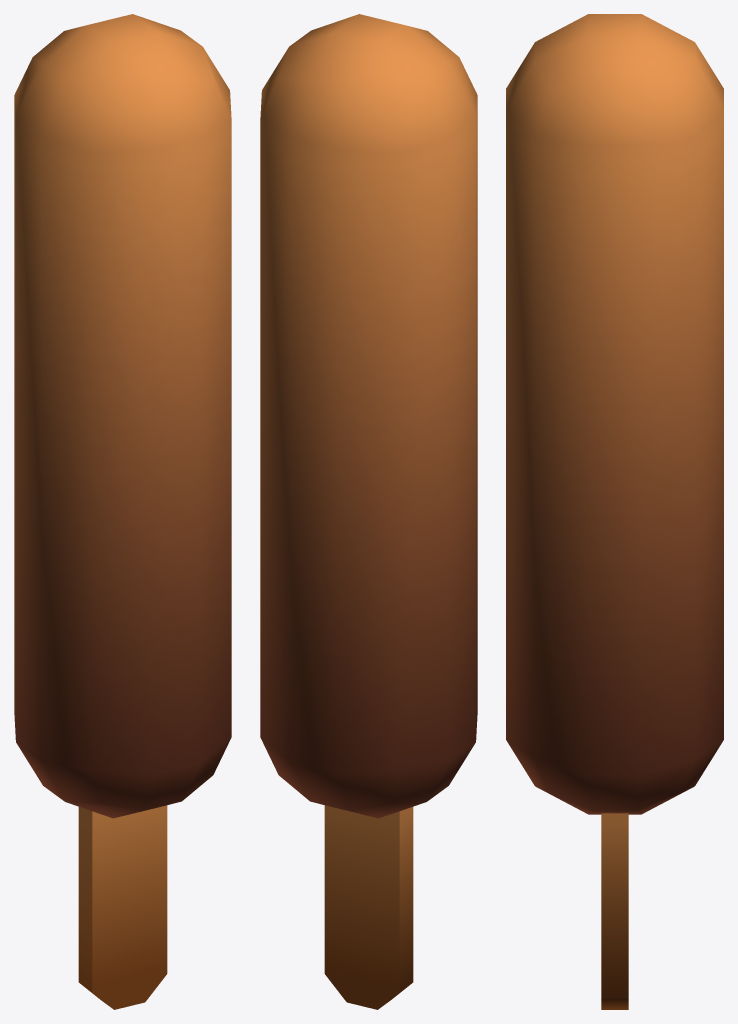
The model's file is m_PopsicleStick03.fbx.
3 views of the same model, side by side, from view 1: azimuth 30°, elevation 25°; view 2: azimuth 150°, elevation 25°; view 3: azimuth 270°, elevation 25° (orthographic).
Parts seen in each view (by area): view 1: m_PopsicleStick03; view 2: m_PopsicleStick03; view 3: m_PopsicleStick03.
Boxes of the visible parts, left/top/right/bottom form: m_PopsicleStick03: left=14, top=14, right=231, bottom=1009; m_PopsicleStick03: left=260, top=14, right=477, bottom=1009; m_PopsicleStick03: left=506, top=14, right=723, bottom=1009.
Bounding box in the file's own units: 4.64 × 22.99 × 4.64.
